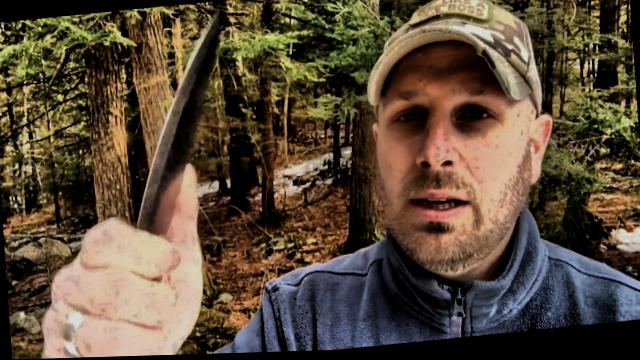knife: (44, 3, 252, 294)
